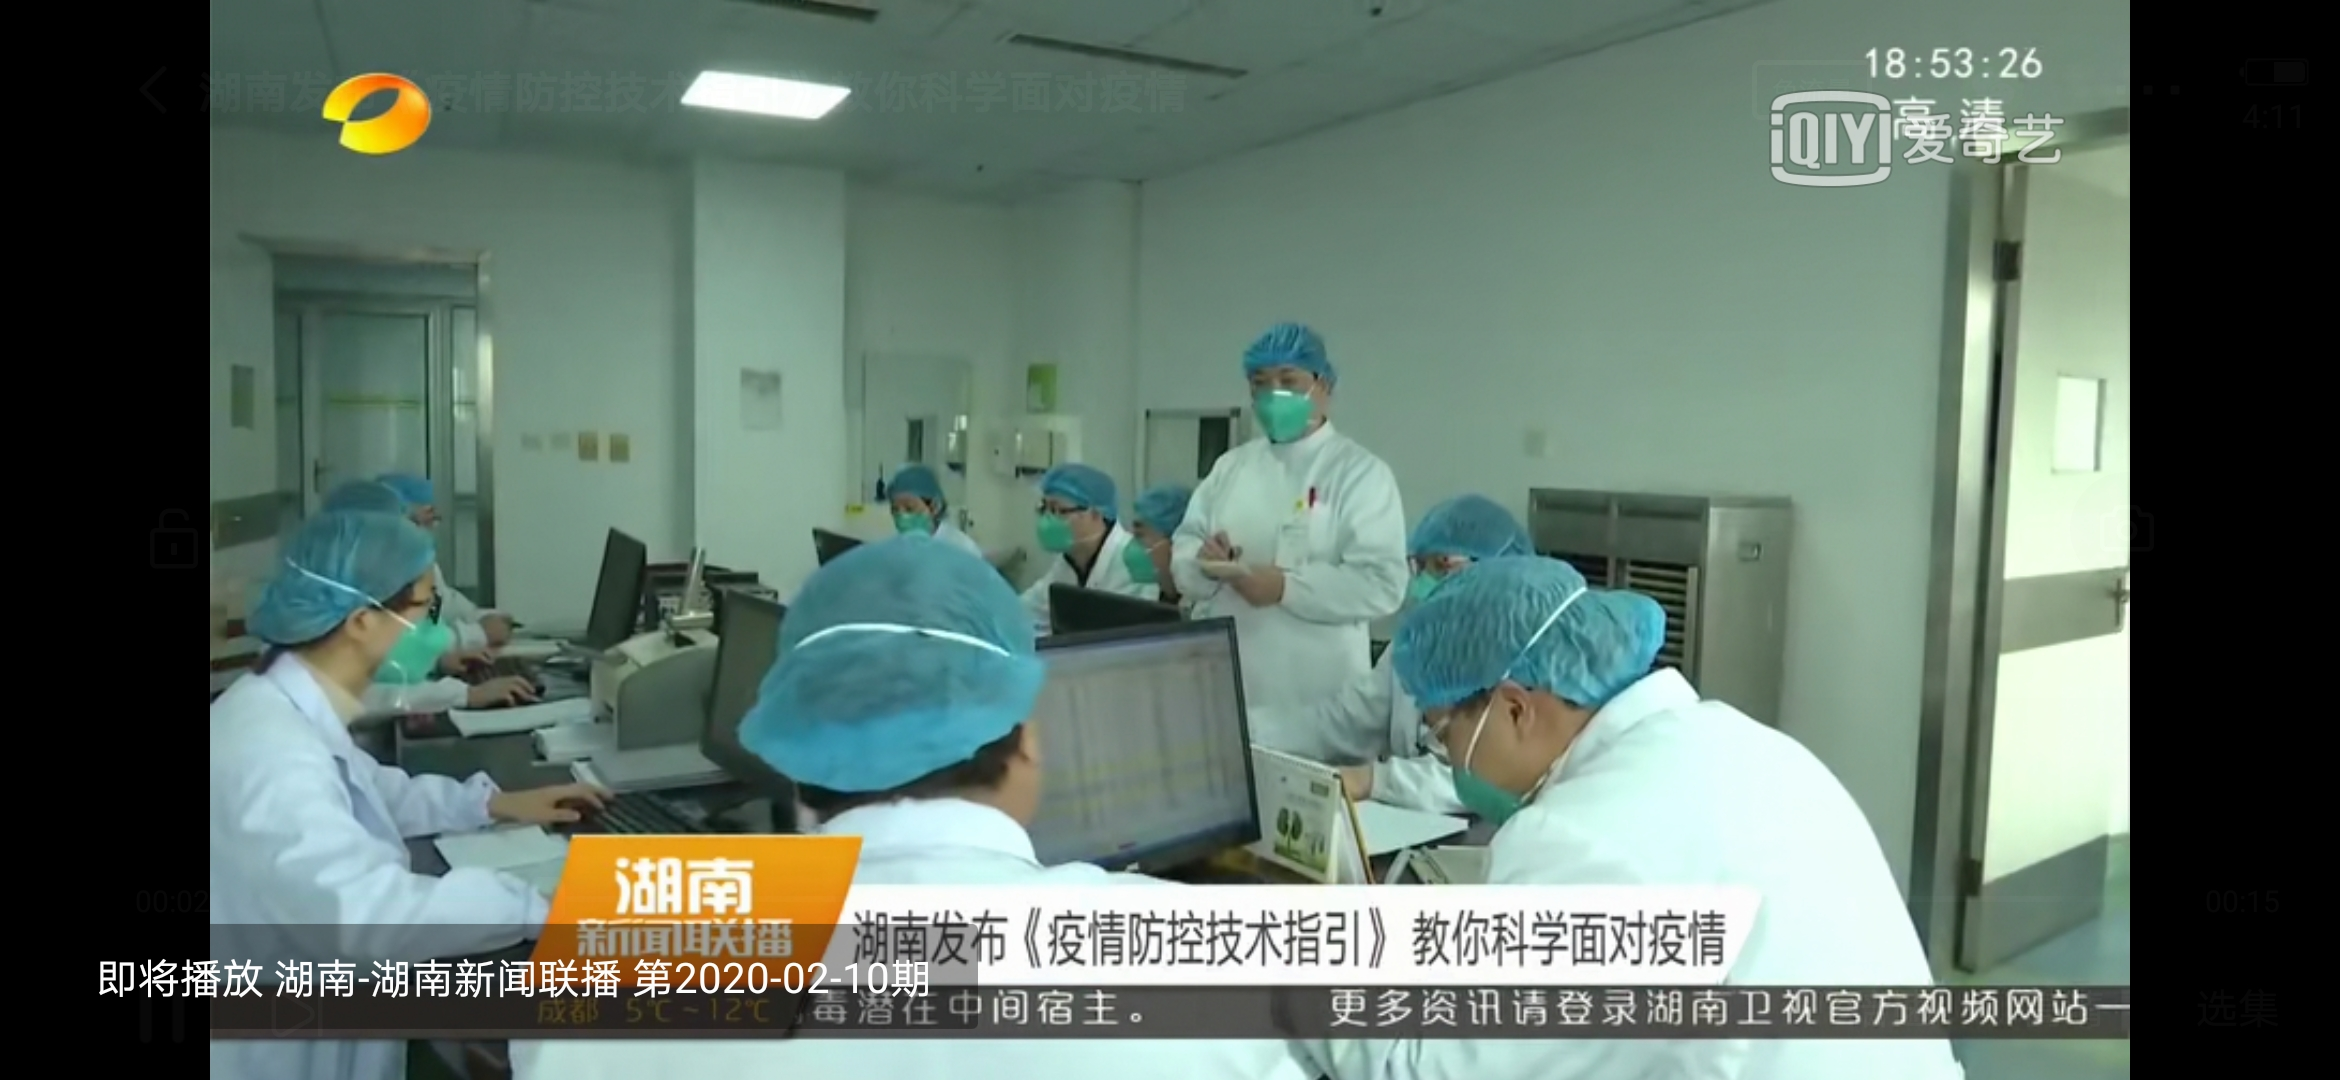correctlyWear: (1418, 677, 1560, 823), (334, 577, 449, 701), (1249, 367, 1330, 448), (1401, 547, 1471, 610), (1036, 497, 1104, 559), (1124, 524, 1173, 589), (889, 494, 945, 541)
